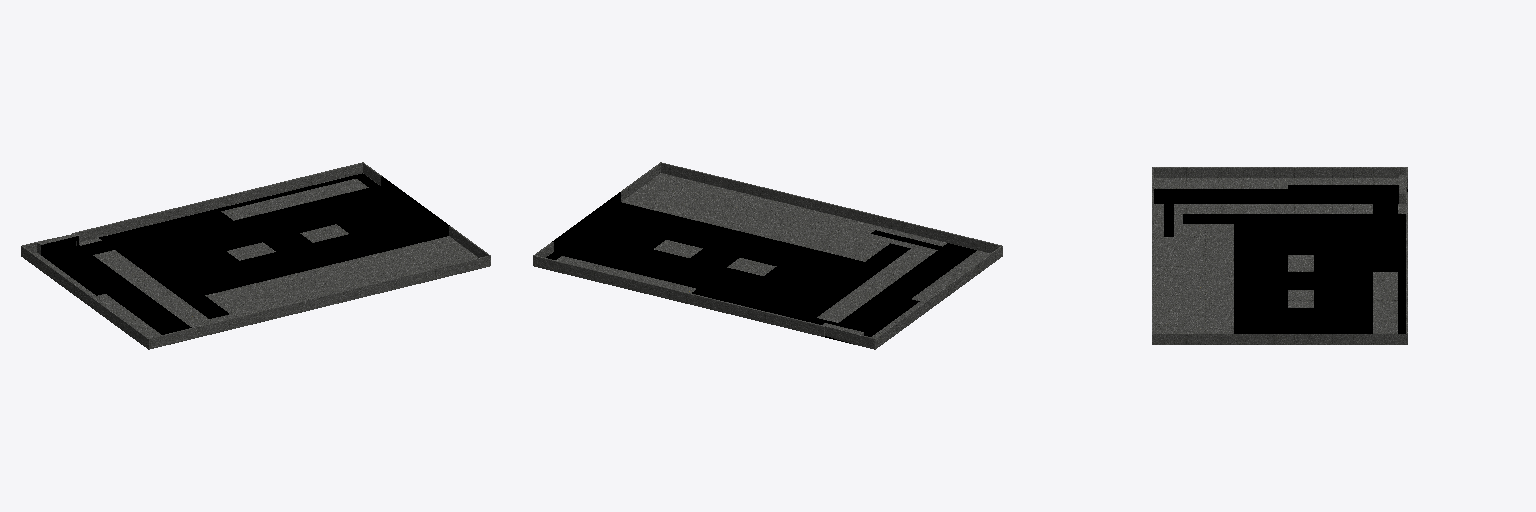
3 renders of one model, left to right at view 1: azimuth 30°, elevation 25°; view 2: azimuth 150°, elevation 25°; view 3: azimuth 270°, elevation 25°, orthographic.
Visible parts, largest first — view 1: pista; view 2: pista; view 3: pista.
Part boxes in pixels (left/top/right/bottom): pista: left=21, top=162, right=490, bottom=349; pista: left=533, top=162, right=1002, bottom=349; pista: left=1152, top=167, right=1407, bottom=344.
Size of the model in its own units: 23.69 by 0.7041 by 15.3.
Materials: 5 (1 with a texture image).